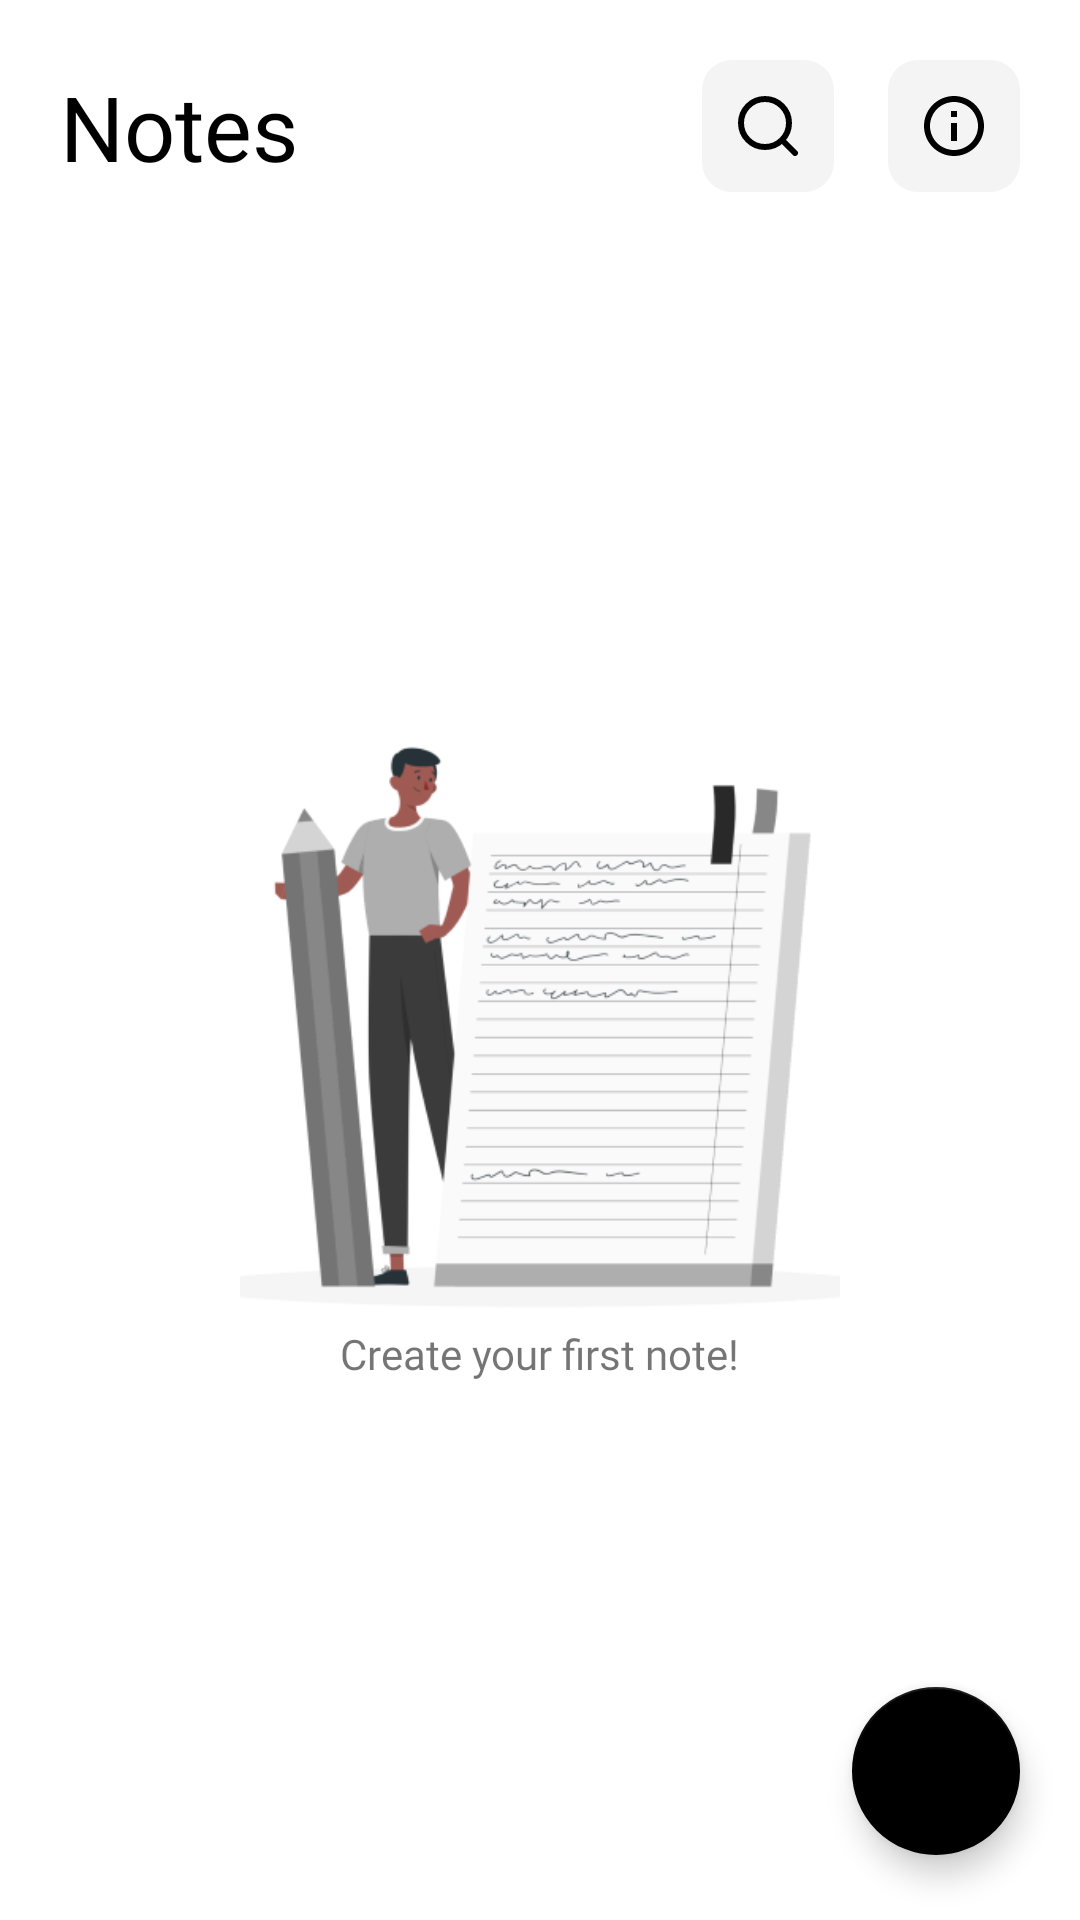

Named icons in this screenshot (1080px×1920px) and their centers, [x,y]:
info: [954,126]
search: [768,126]
